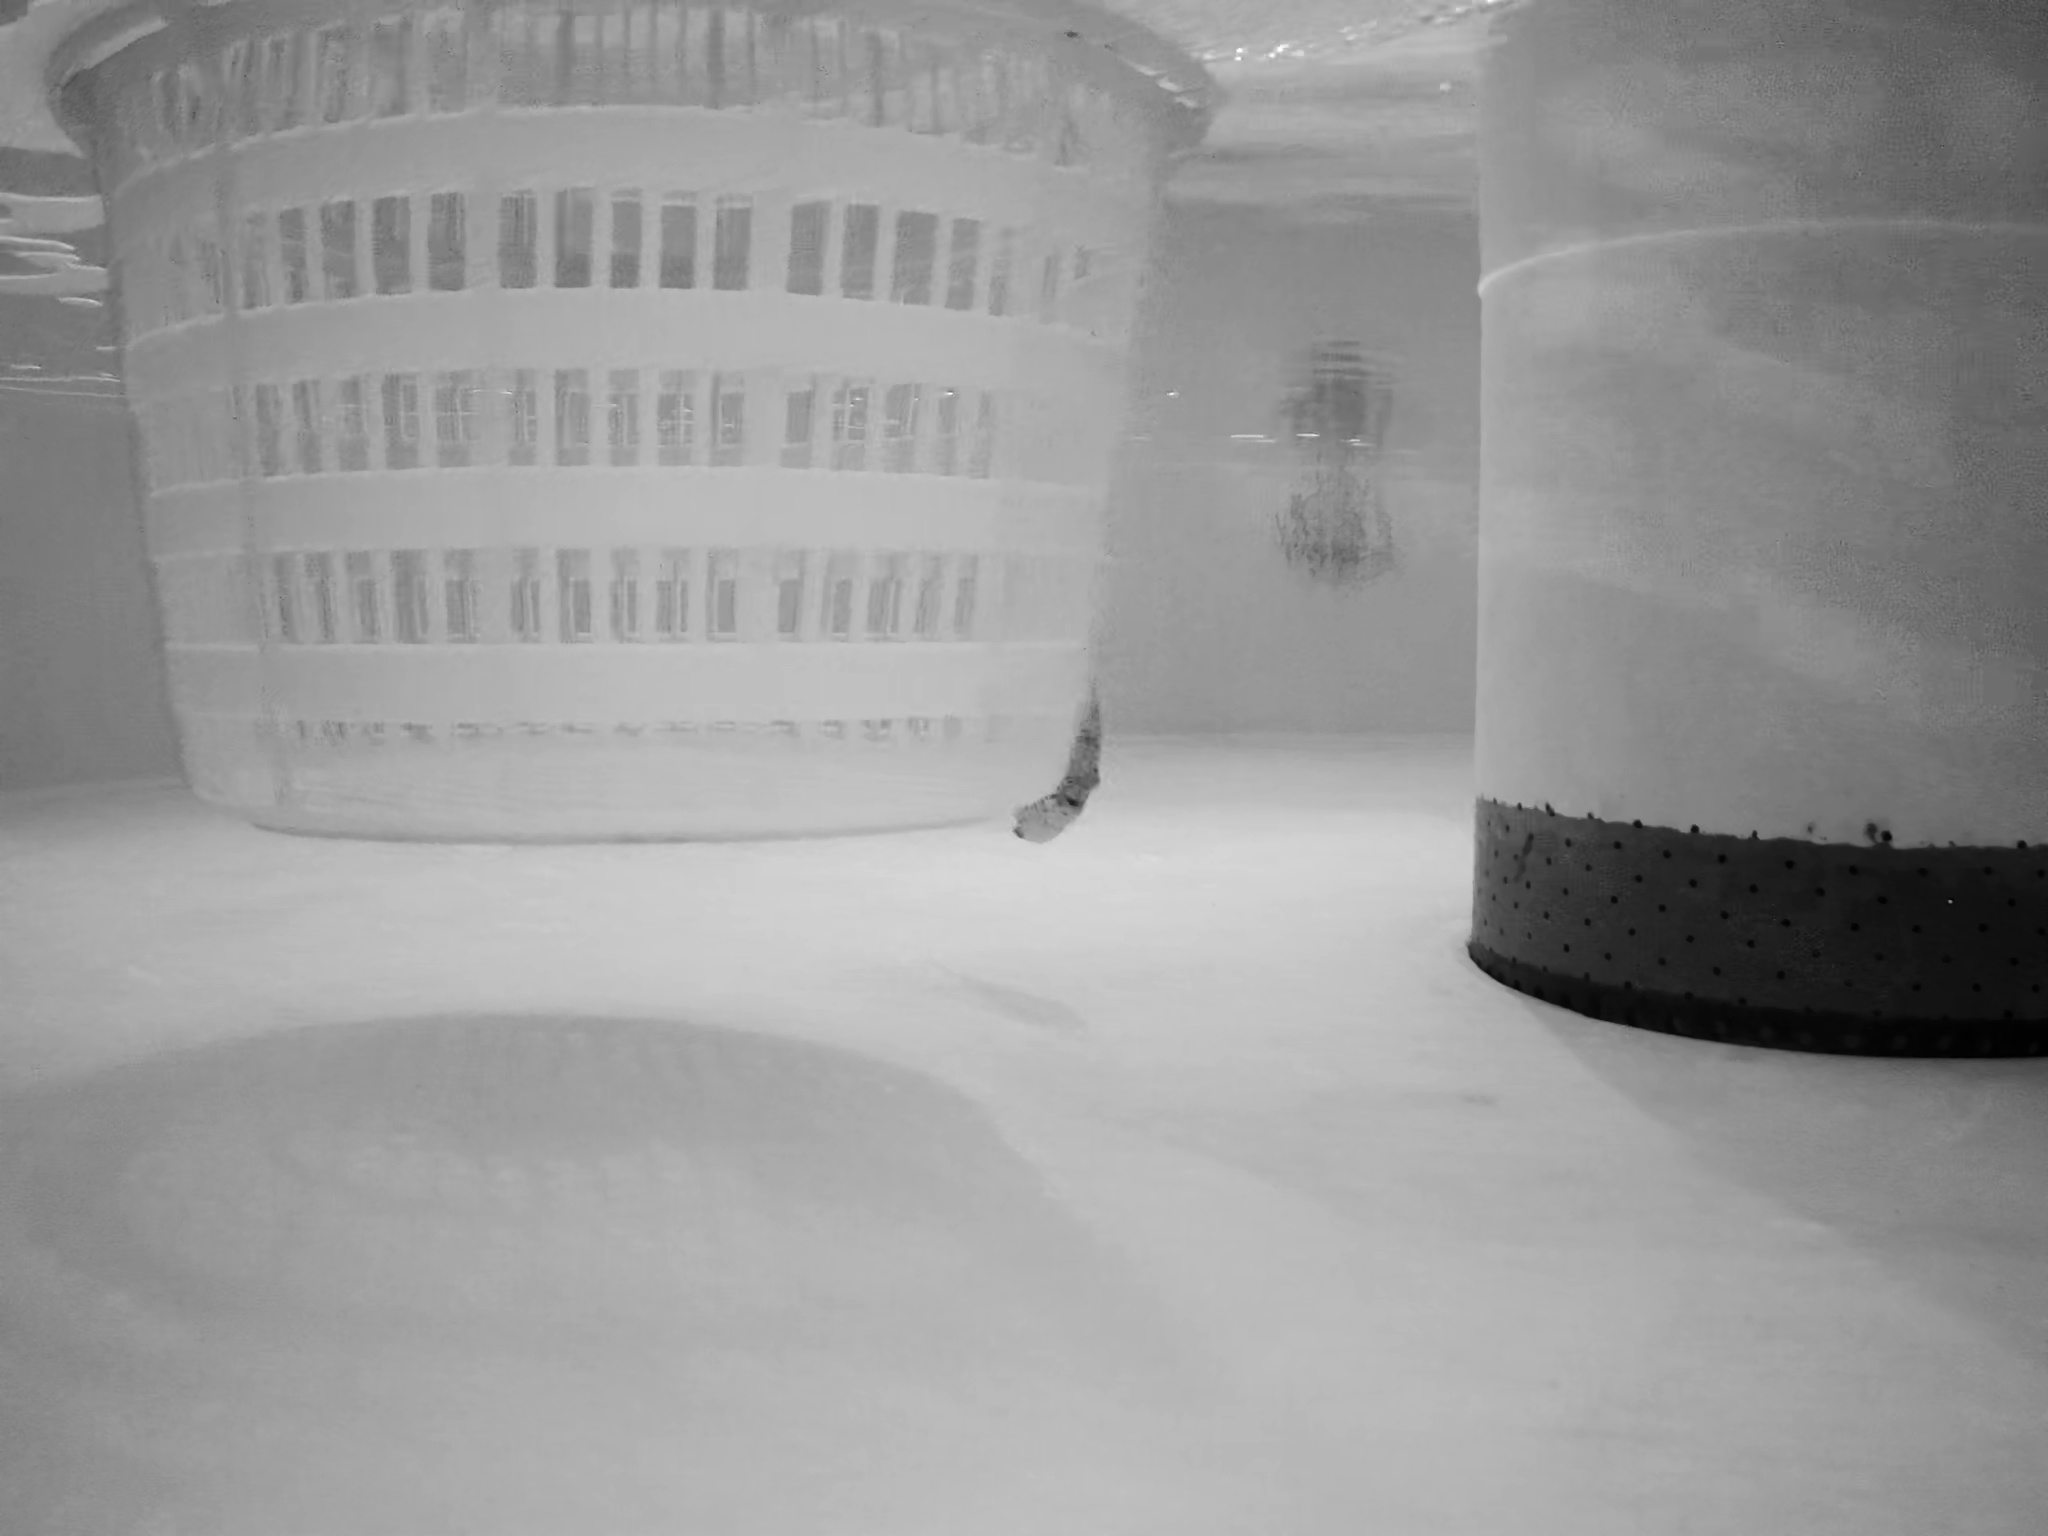fish: (998, 620, 1113, 844)
